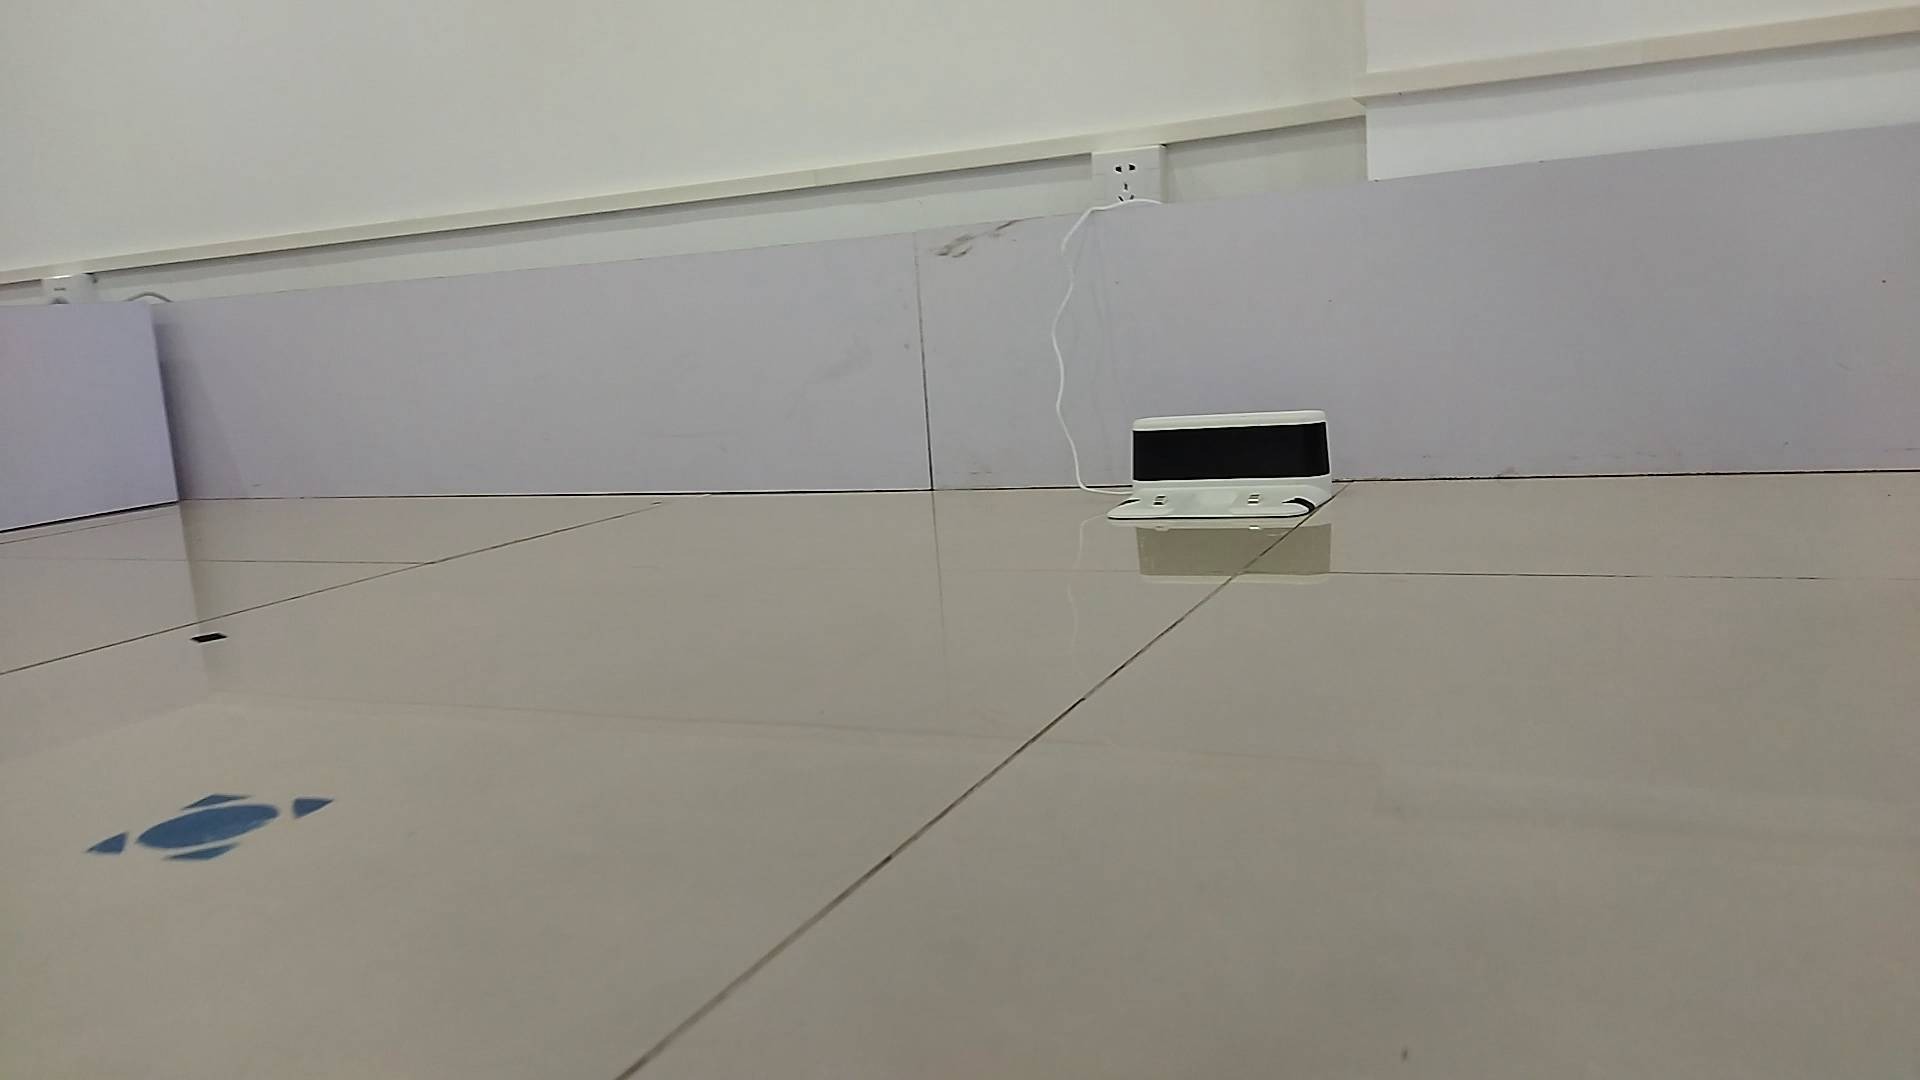recharge seat: (1106, 407, 1335, 517)
